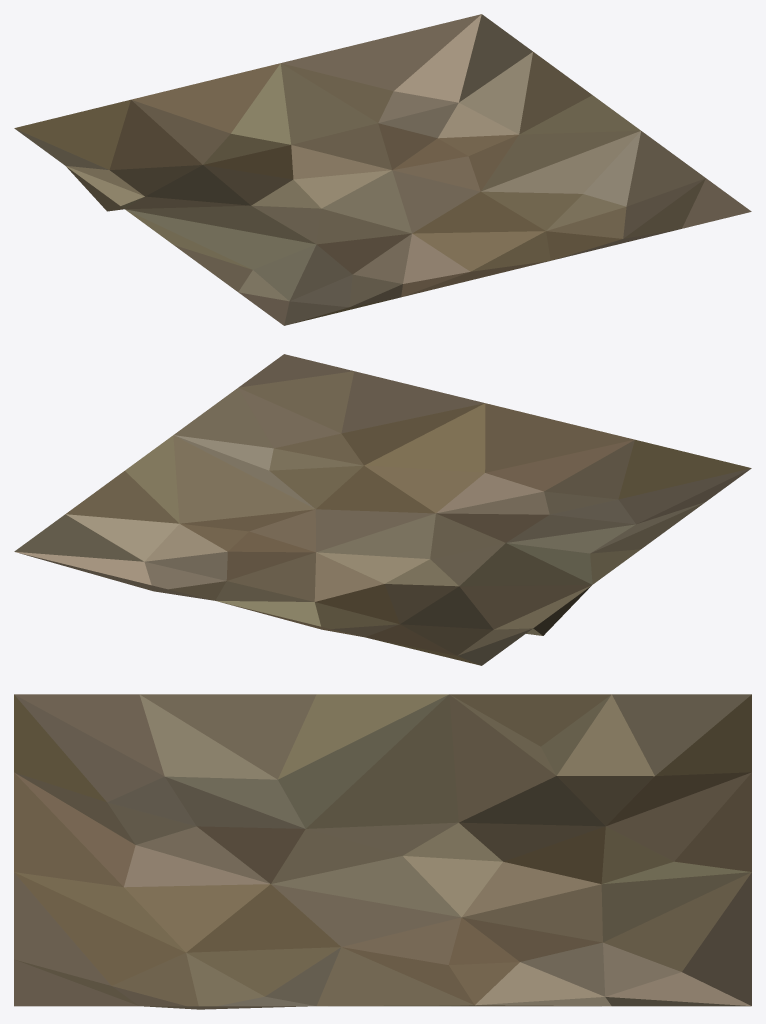
Rendered from Floor_UG-DirtC.fbx.
3 views of the same model, one above another, from view 1: azimuth 30°, elevation 25°; view 2: azimuth 150°, elevation 25°; view 3: azimuth 270°, elevation 25° (orthographic). The views are drawn at different scales.
Parts seen in each view (by area): view 1: Floor_UG-DirtC; view 2: Floor_UG-DirtC; view 3: Floor_UG-DirtC.
Boxes of the visible parts, x1,y1,x2,y2 form: Floor_UG-DirtC: (14,14,751,325); Floor_UG-DirtC: (14,354,751,665); Floor_UG-DirtC: (14,694,751,1009).
Size of the model in its own units: 400 by 25 by 400.
